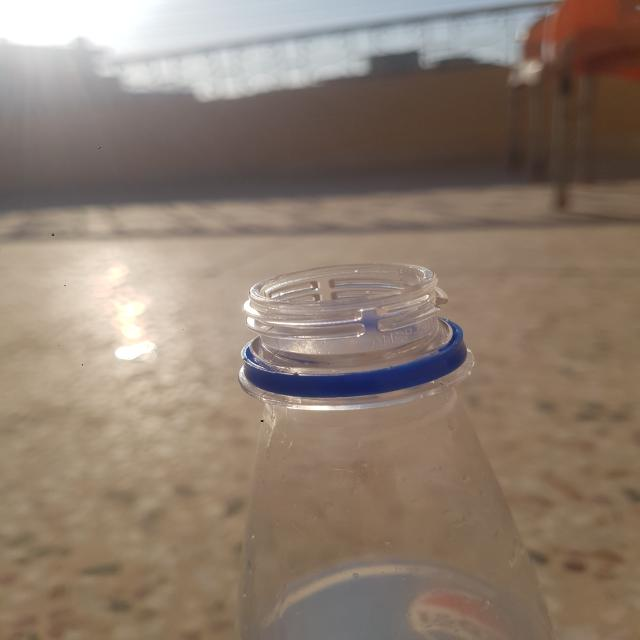general: (234, 262, 555, 638)
